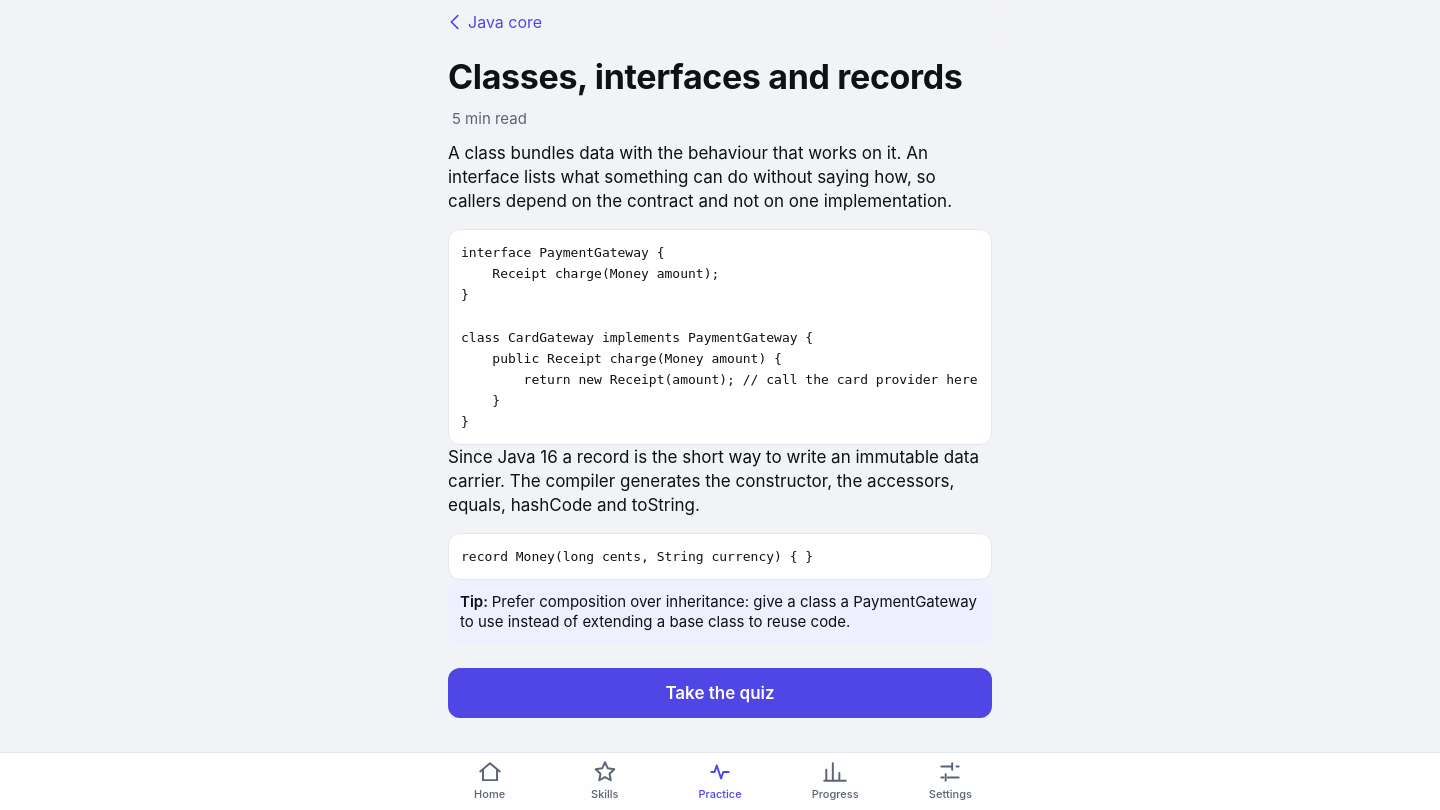
Test: Java module › read, pass the quiz, complete the lesson once and earn XP once
Expected: the heading "Classes, interfaces and records" is shown, [448,56,962,97]
Click the button "Take the quiz" at (720, 693), box [448,668,992,718]
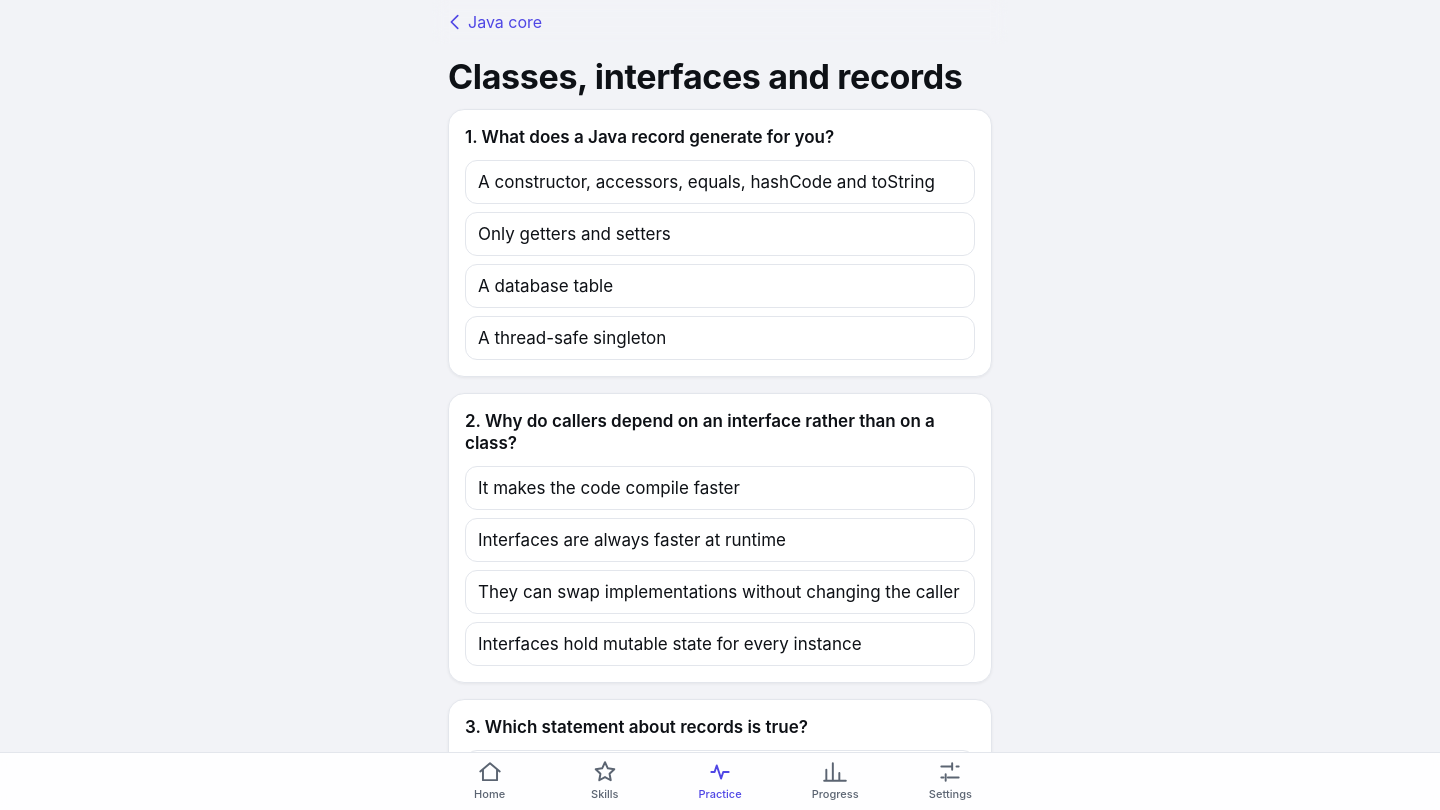
Click the radio button labelled "A constructor, accessors, equals, hashCode and toString" at (720, 182), box [465,160,975,204]
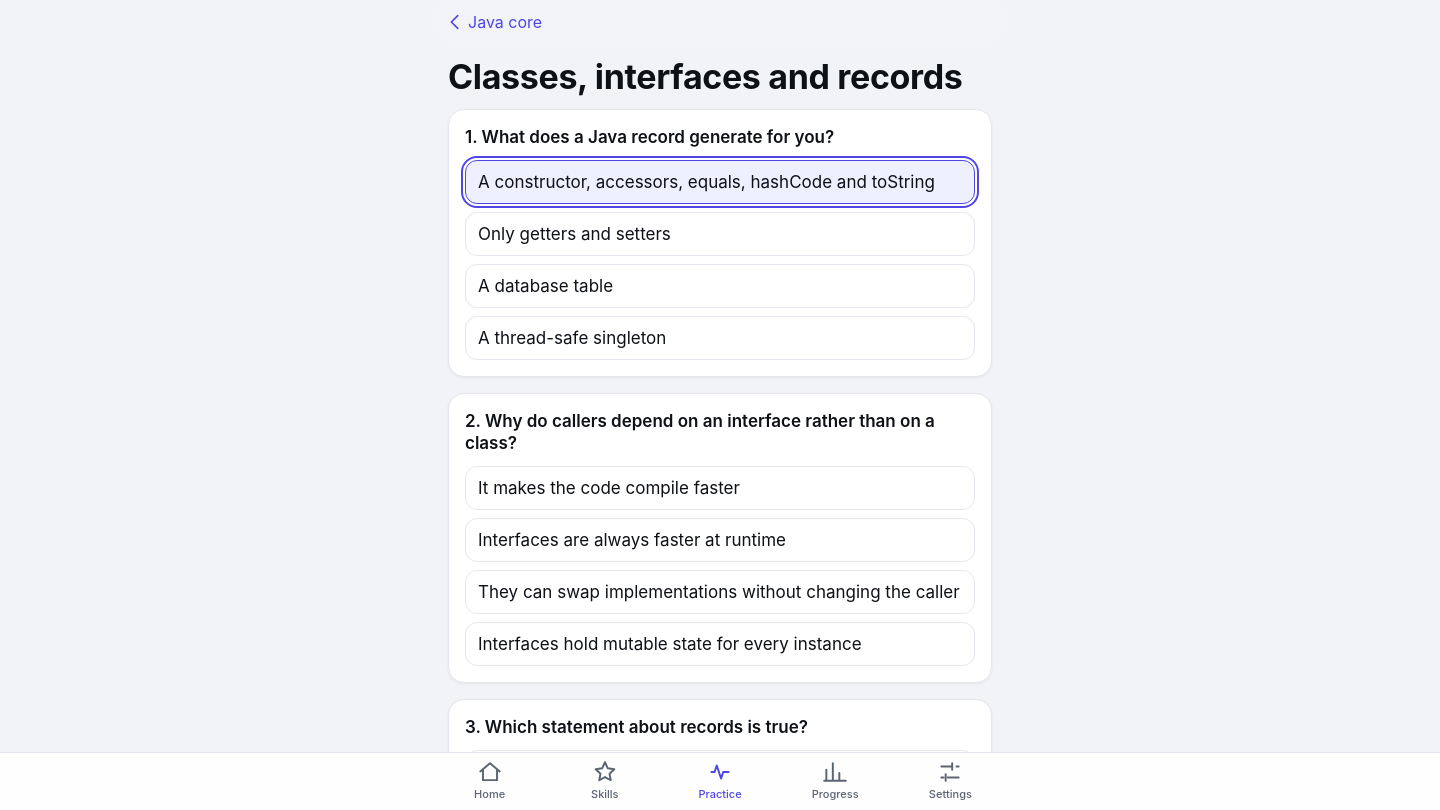
Click the radio button labelled "They can swap implementations without changing the caller" at (720, 592), box [465,570,975,614]
(page scrolled)
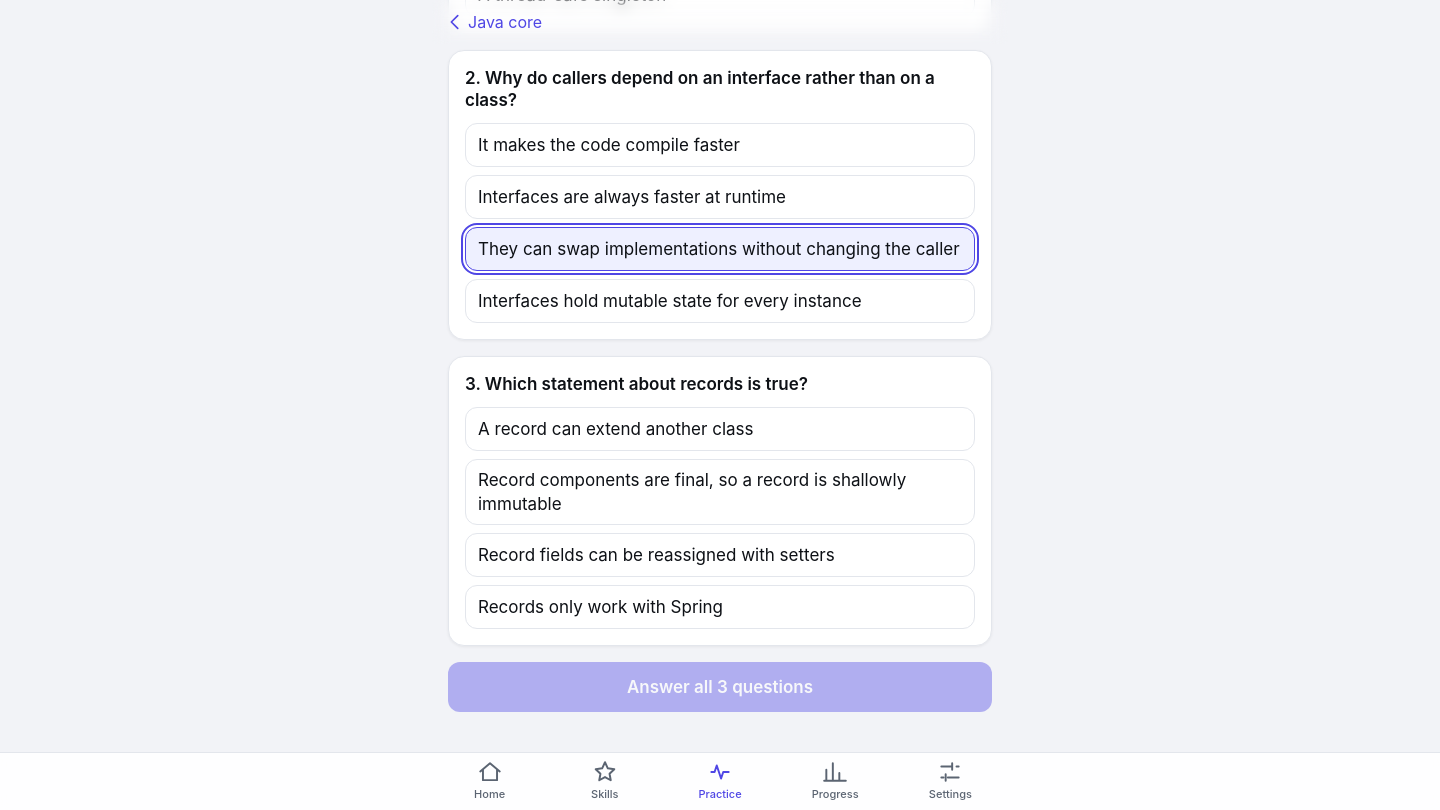
Click the 6th radio button at (720, 492), box [465,459,975,525]
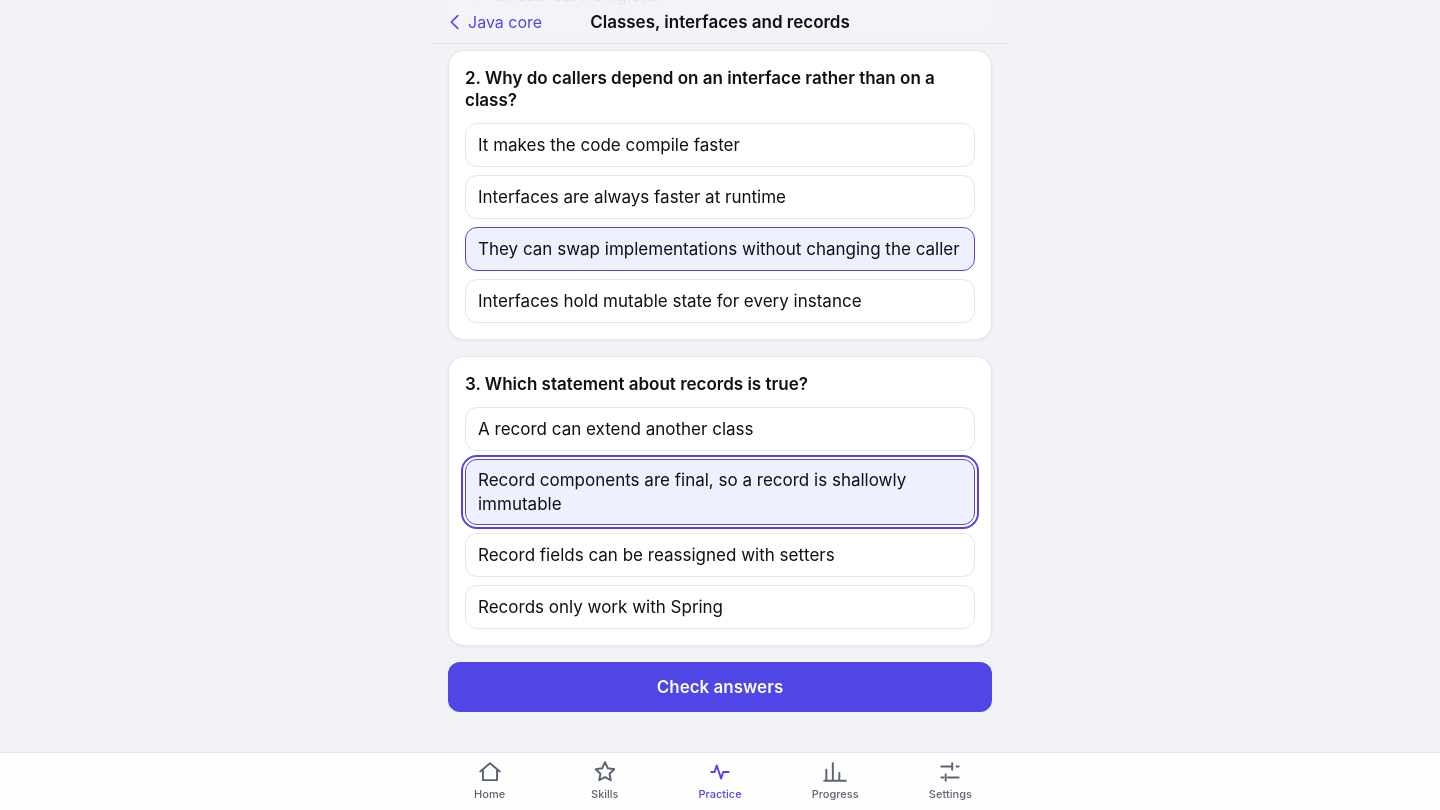
Click the button "Check answers" at (720, 687), box [448,662,992,712]
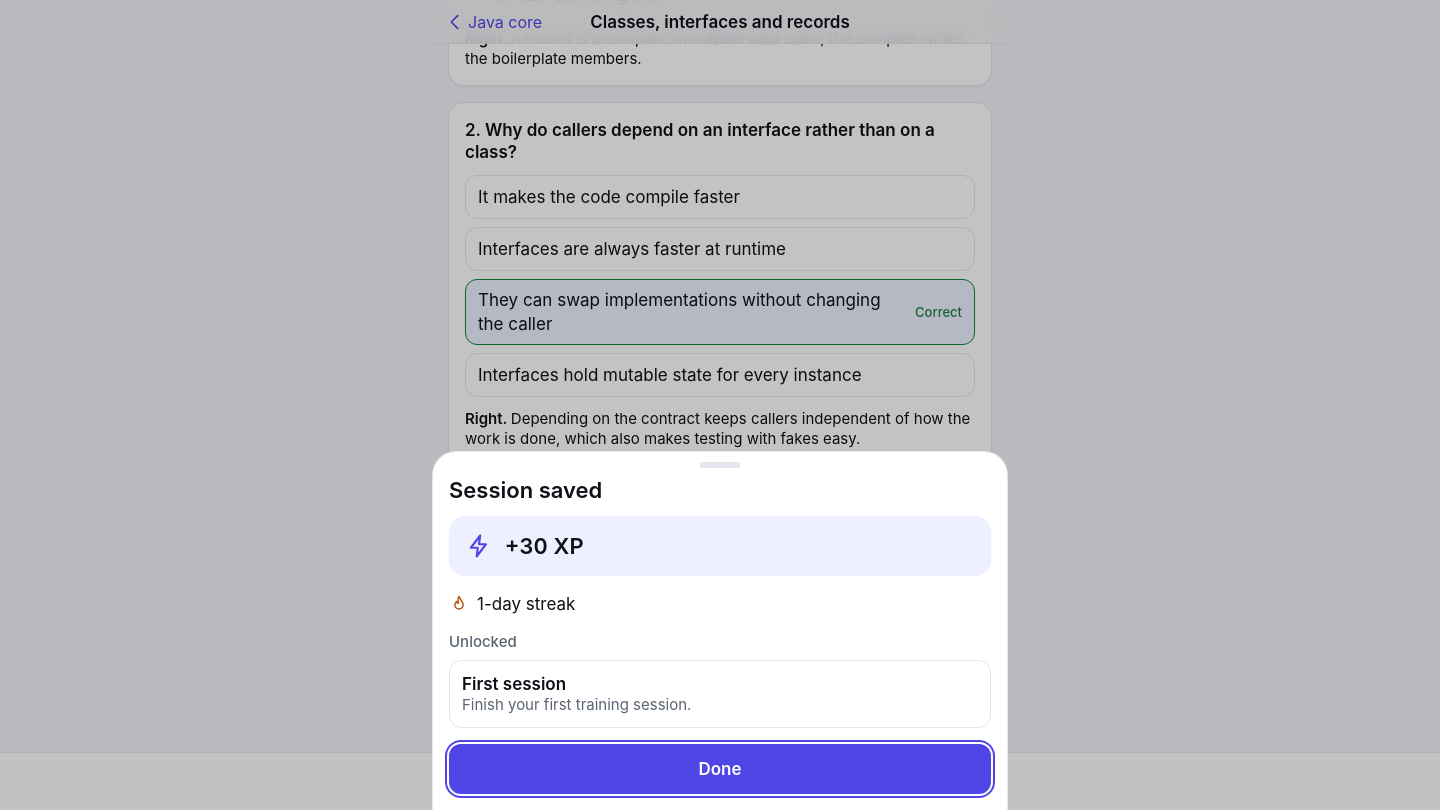
Expected: the text "+30 XP" is shown, [505,532,584,560]
